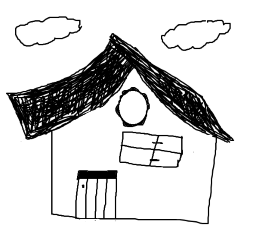closed_window: (116, 127, 187, 169)
clouds: (153, 15, 235, 56), (10, 10, 87, 50)
door: (70, 163, 125, 225)
open_window: (112, 83, 153, 127)
shaded_roof: (8, 34, 246, 141)
wall: (34, 126, 226, 231)
